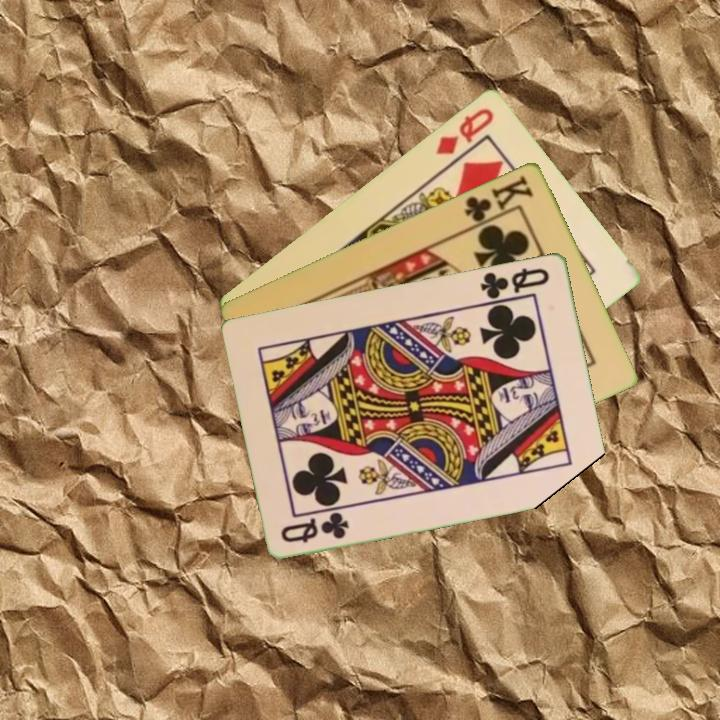Kc: (460, 171, 537, 230)
Qc: (477, 263, 553, 302), (277, 509, 353, 546)
Qd: (432, 104, 497, 158)
